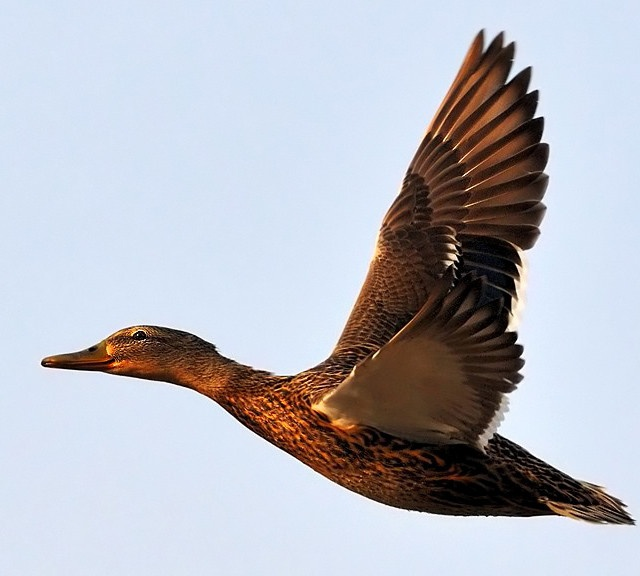bird: (37, 28, 640, 523)
